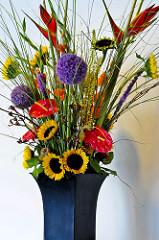sunflower: (61, 148, 88, 175), (41, 153, 65, 181), (1, 54, 19, 80), (144, 54, 159, 79), (39, 120, 57, 139)
